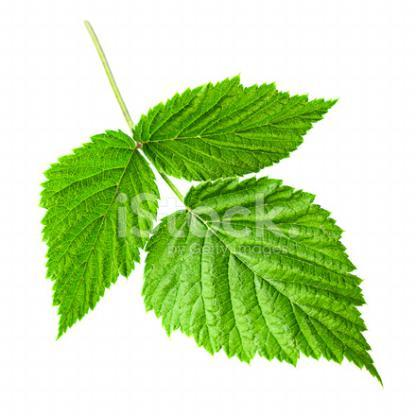Raspberry leaf: (141, 169, 383, 384), (32, 120, 157, 341), (132, 72, 342, 179)
